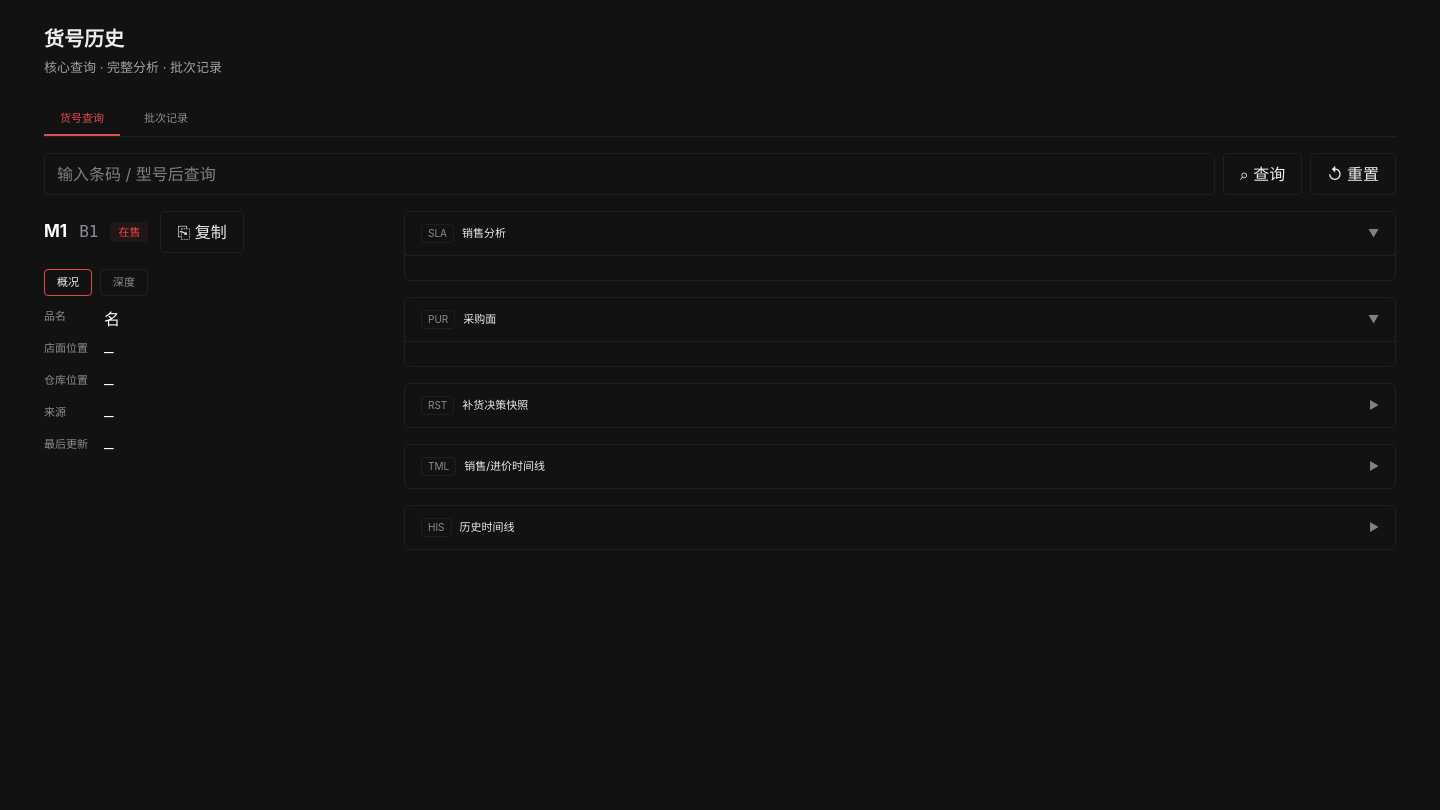
Test: 4b.5: extrasStore.error → RST 卡内显示错误
The image size is (1440, 810).
Click the button with id "sbcard-rst".
click(438, 406)  # box [405,384,1395,427]
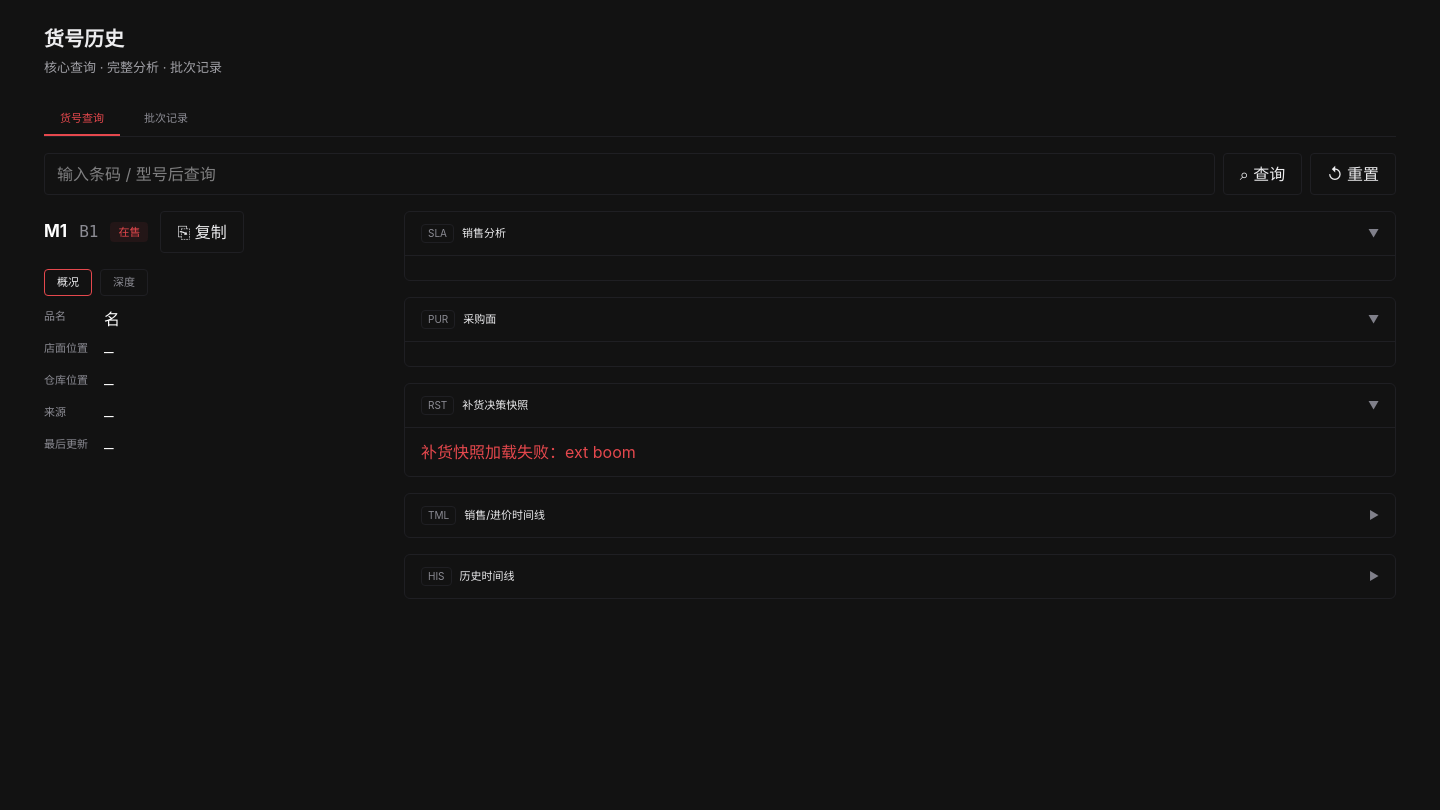
Now the element with id "sbpanel-rst" shows "ext boom", box [421,442,636,462]
